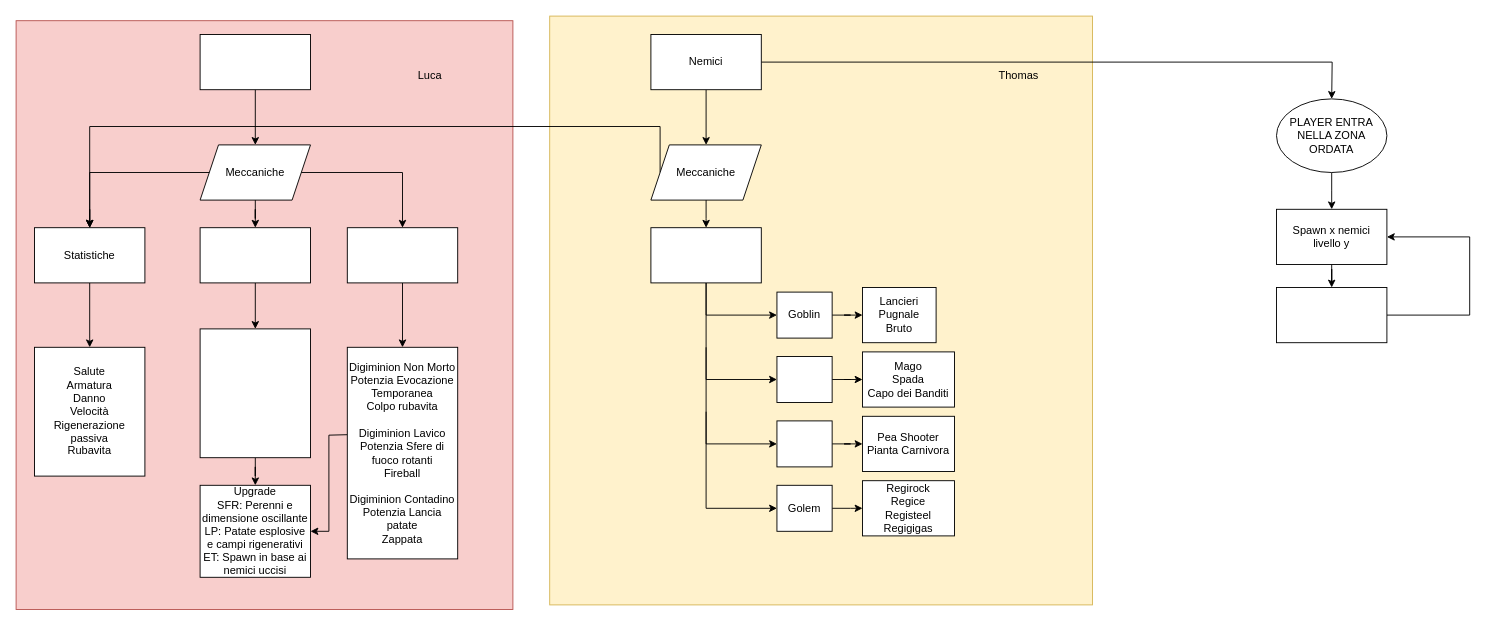
Image size: 1493x626. Some labels were removed from this diagram. The shapes that lost their labels are listed below. From the top down, each one's box as (x1, y1, x2, y2) in pixels, then its label:
(199, 34, 310, 90): Giocatore
(199, 227, 310, 283): Abilita passive
(346, 227, 458, 283): Abilita Attive
(650, 227, 761, 283): Tipologie
(1276, 287, 1387, 343): nemico eliminato, incremento x y
(199, 328, 310, 458): Sfere di fuoco rotanti. Spine dal terreno Lancia patate Evocazione temporanea
(776, 356, 832, 402): Banditi
(776, 420, 832, 467): Piante
